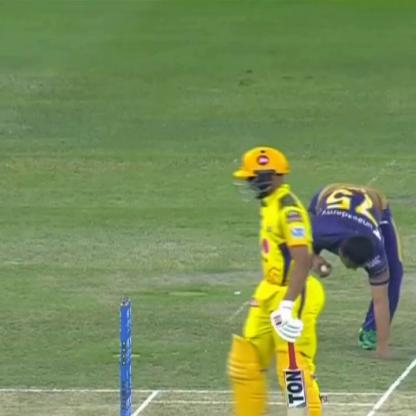ball: (315, 262, 333, 278)
